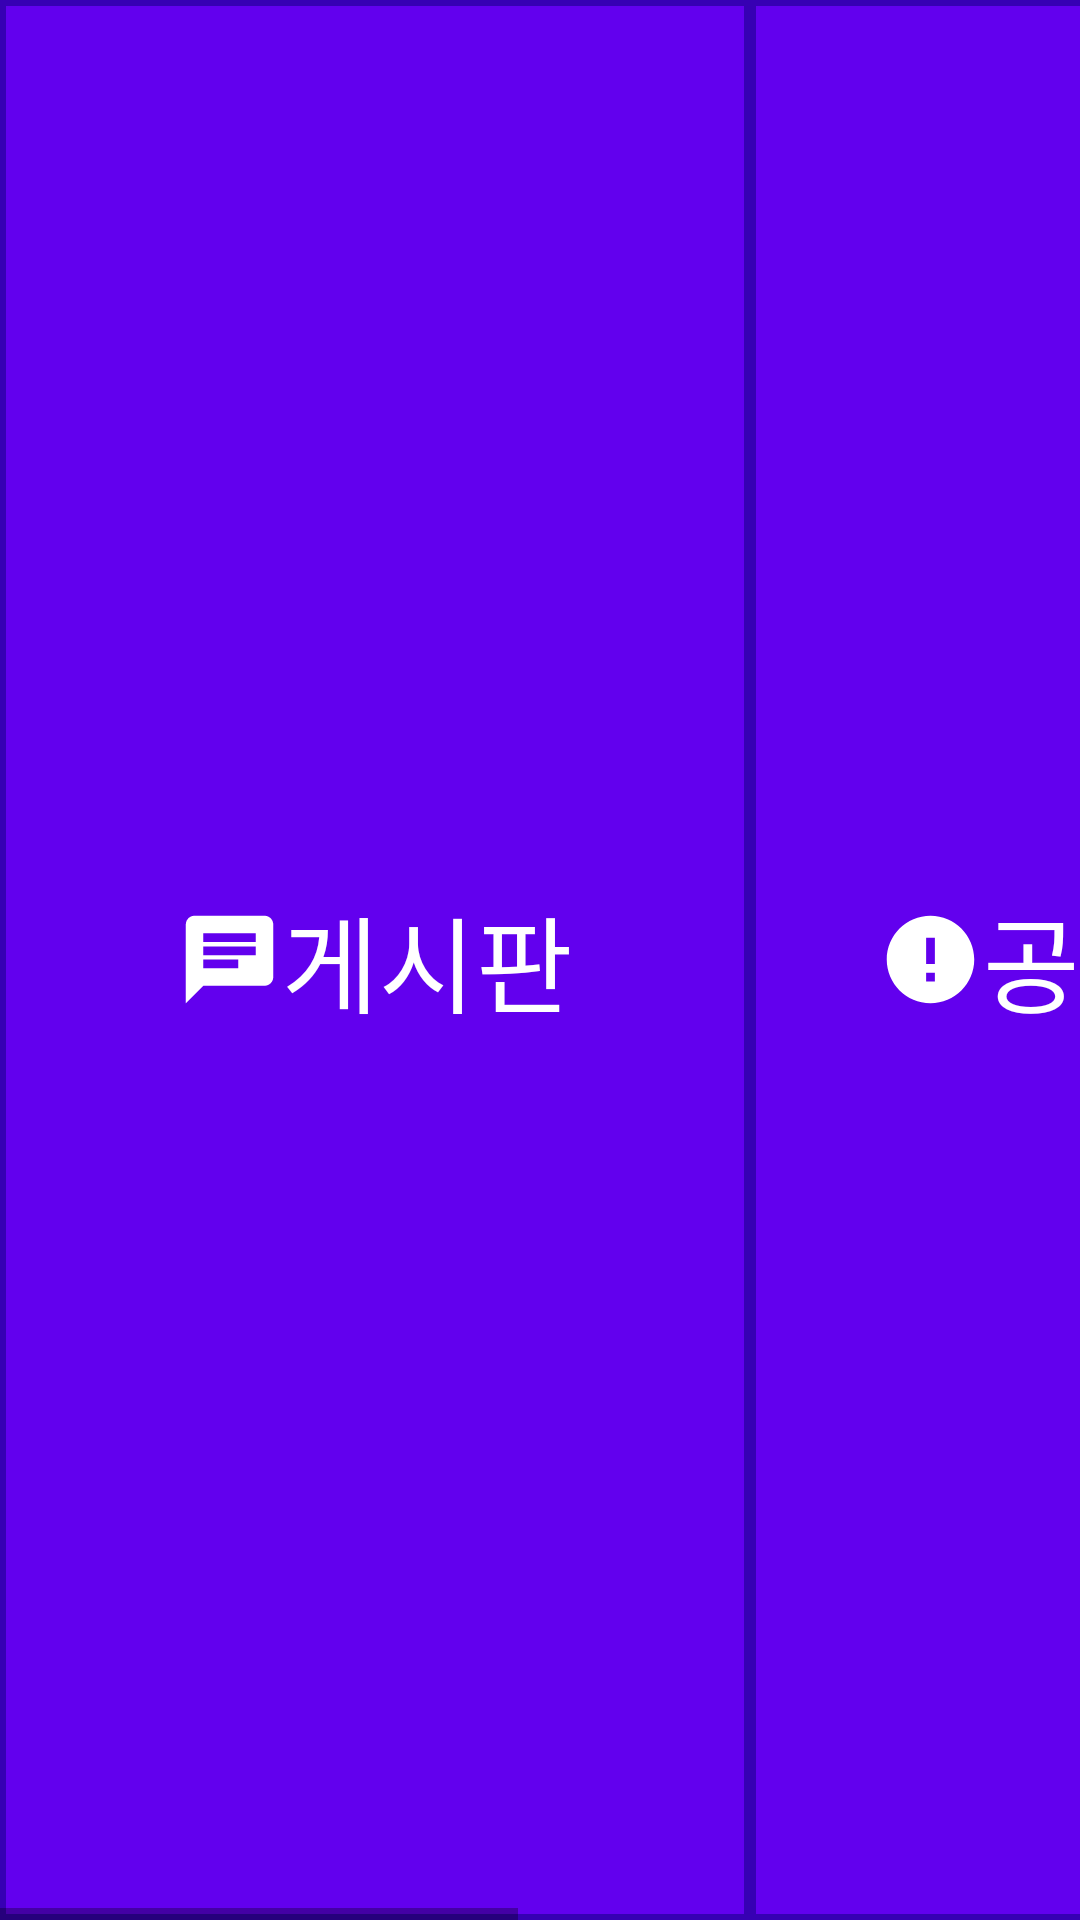

Point at icon controls on the screen. Image size 1080px×1920px, points as (x=x, y=y).
chat: (x=229, y=959)
error: (x=930, y=959)
